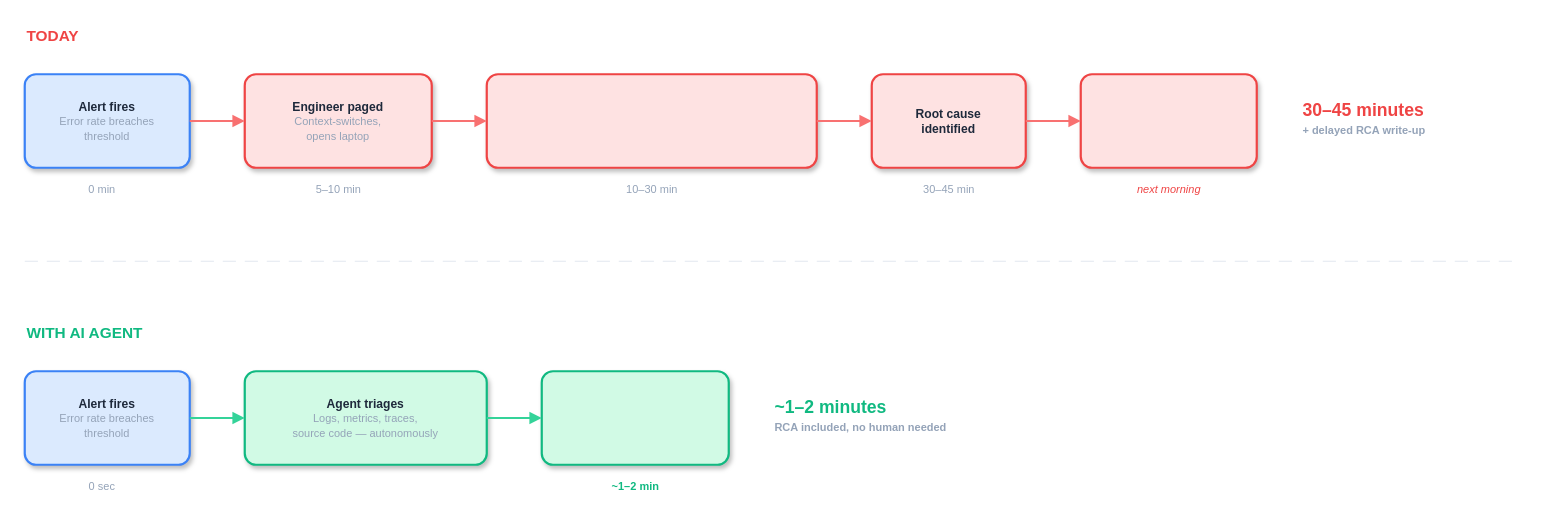
Some shapes in this 1561 by 513 pixel diagram are drawn without their labels. The centre of each missing label's shape, as x and y in pixels:
"Manual investigation Logs, metrics, traces, dashboards, source code" goes at pixel 652 122.
"RCA issue filed Structured, with all evidence attached" goes at pixel 636 419.
"RCA written up Often the next morning" goes at pixel 1169 122.
